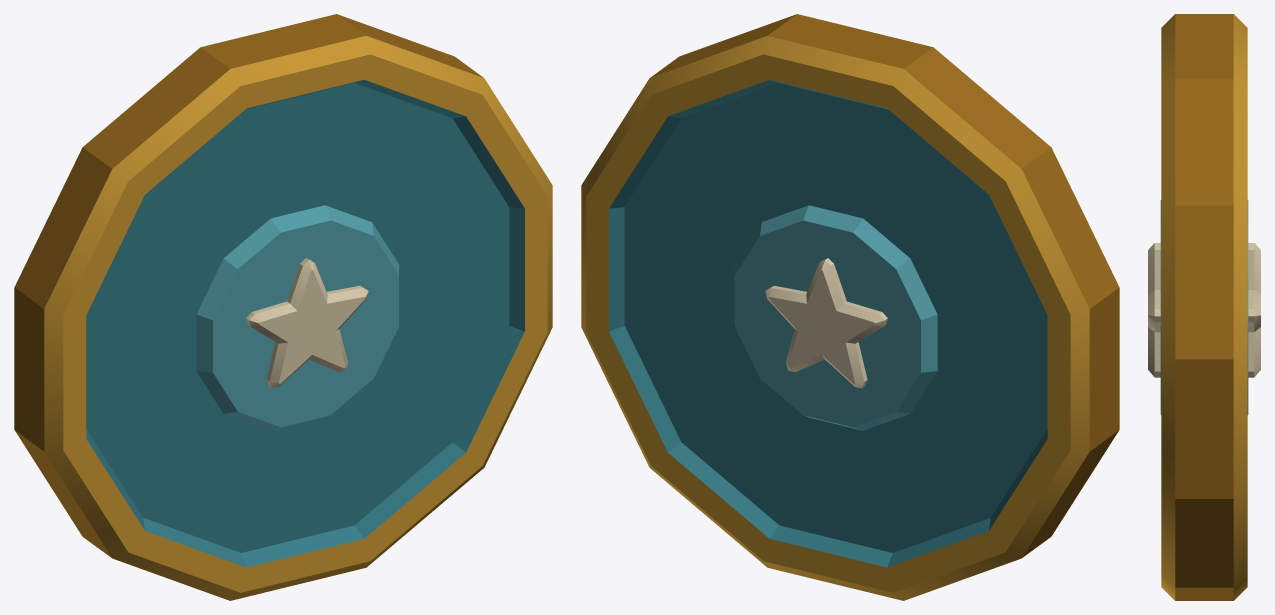
Rendered from Coin_13.glb.
3 views of the same model, side by side, from view 1: azimuth 30°, elevation 25°; view 2: azimuth 150°, elevation 25°; view 3: azimuth 270°, elevation 25° (orthographic).
Visible parts, largest first — view 1: Coin_13; view 2: Coin_13; view 3: Coin_13.
Boxes of the visible parts, x1=… form: Coin_13: x1=14, y1=14, x2=552, y2=600; Coin_13: x1=581, y1=14, x2=1119, y2=600; Coin_13: x1=1148, y1=14, x2=1260, y2=600.
Bounding box in the file's own units: 1.84 × 1.84 × 0.36.
